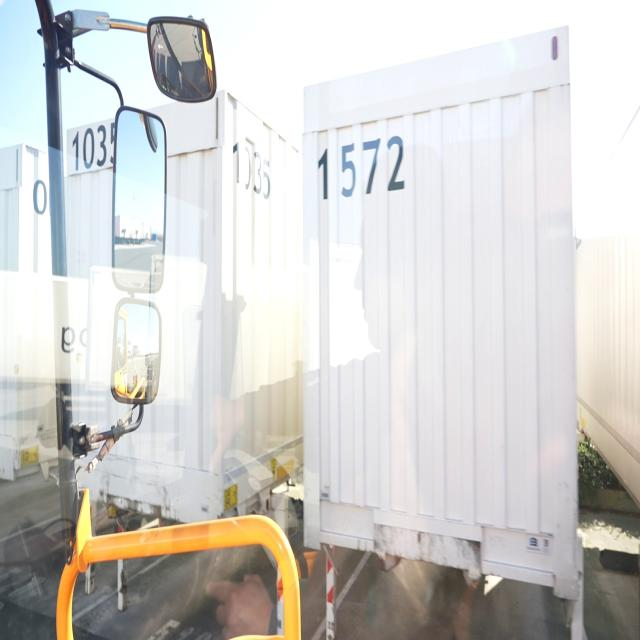Code: (311, 132, 412, 210), (229, 131, 275, 203)
